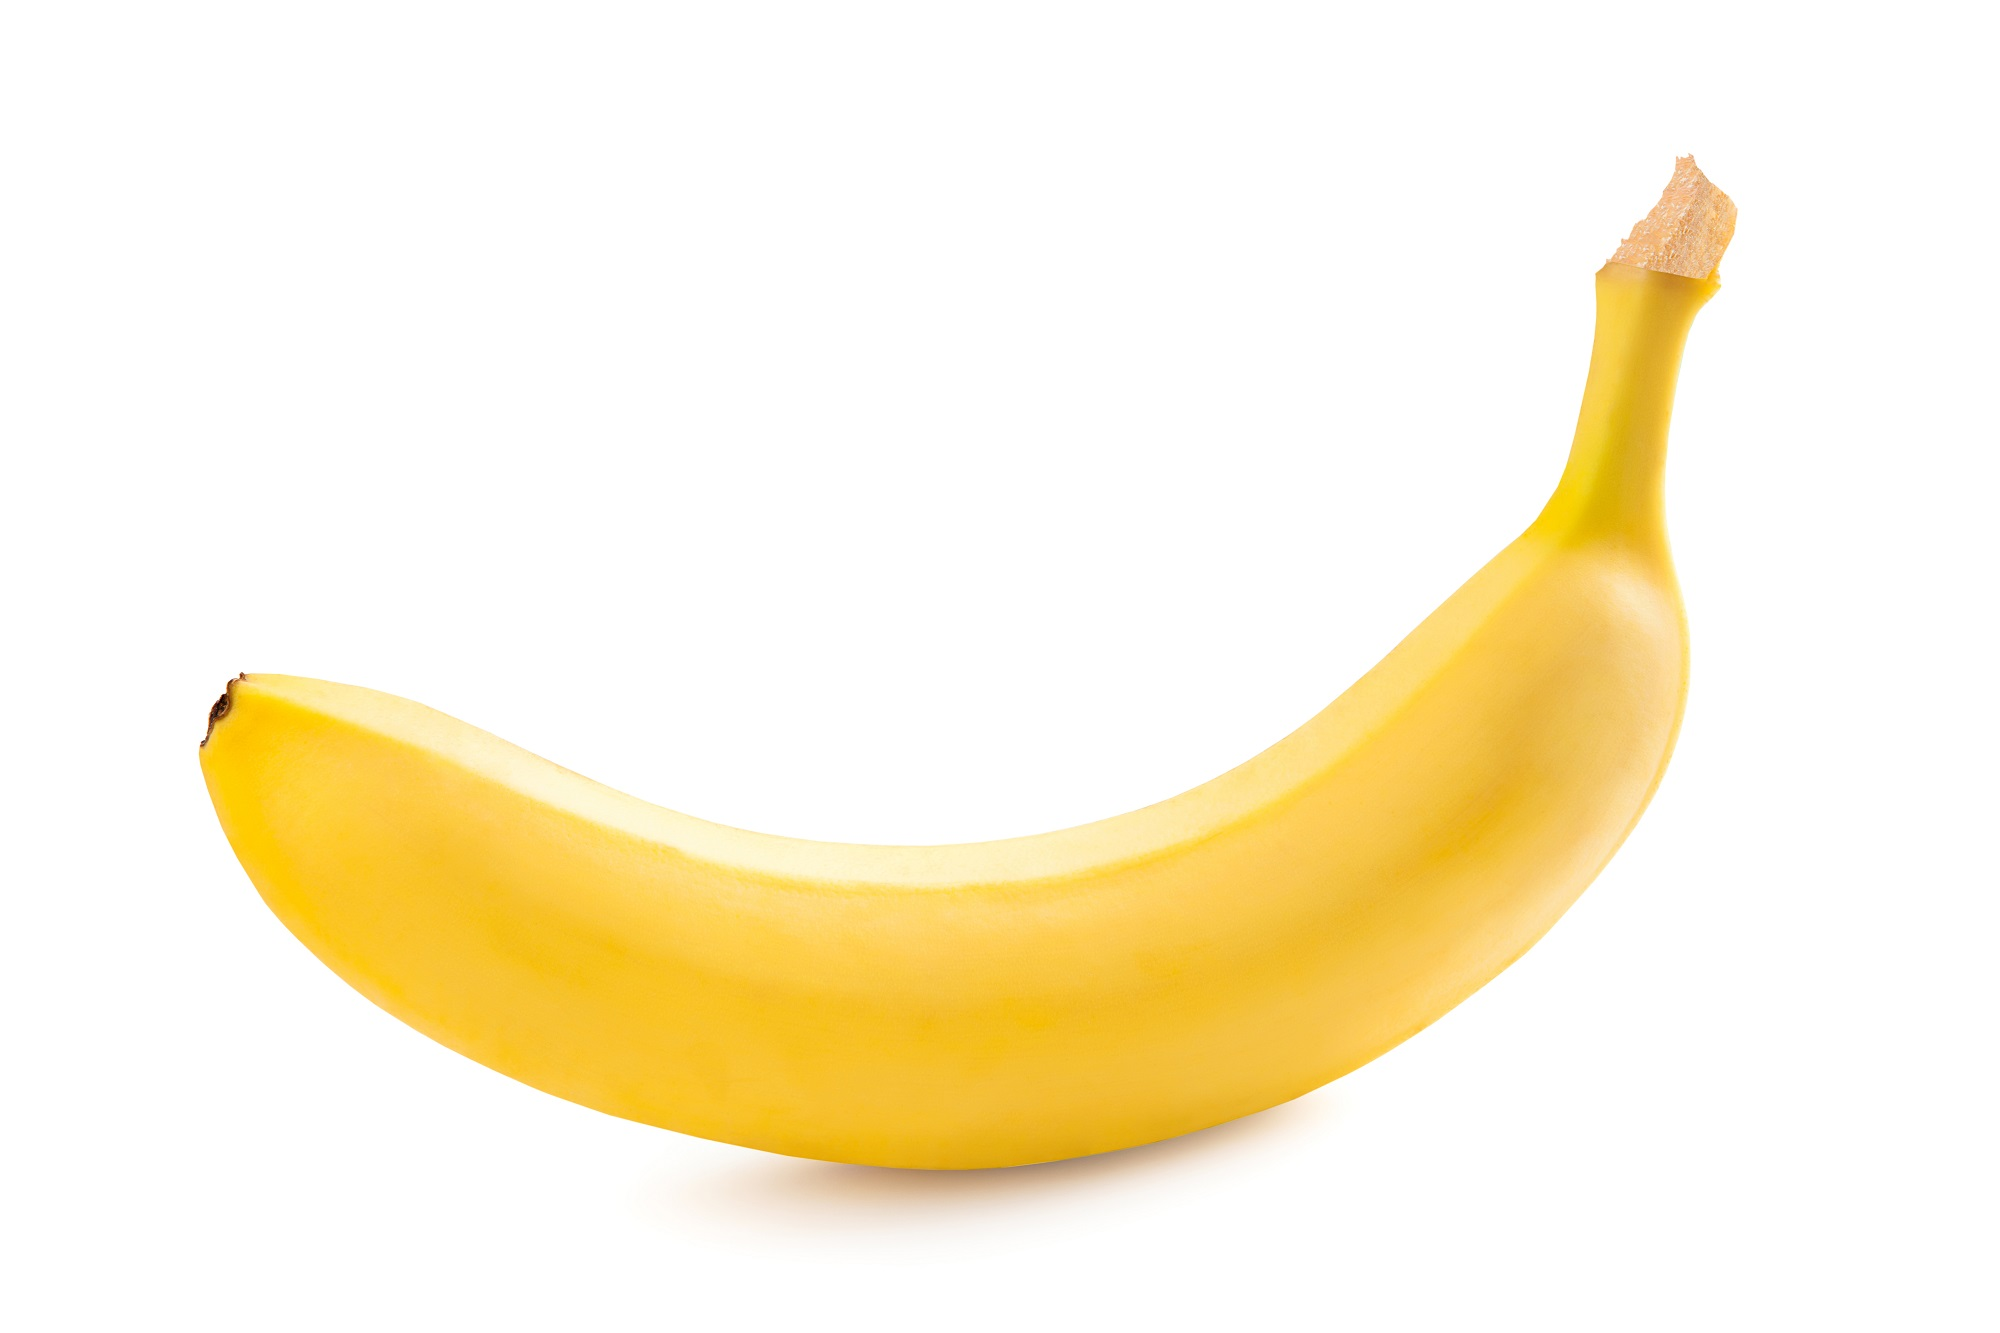banana: (192, 150, 1741, 1177)
